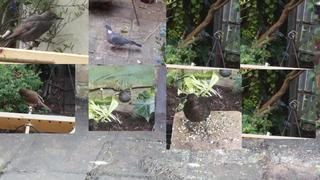blackbird: (183, 93, 218, 138)
robin: (17, 88, 51, 111)
sparrow: (115, 89, 131, 105)
starling: (3, 10, 65, 50)
wood pigeon: (103, 24, 142, 50)
